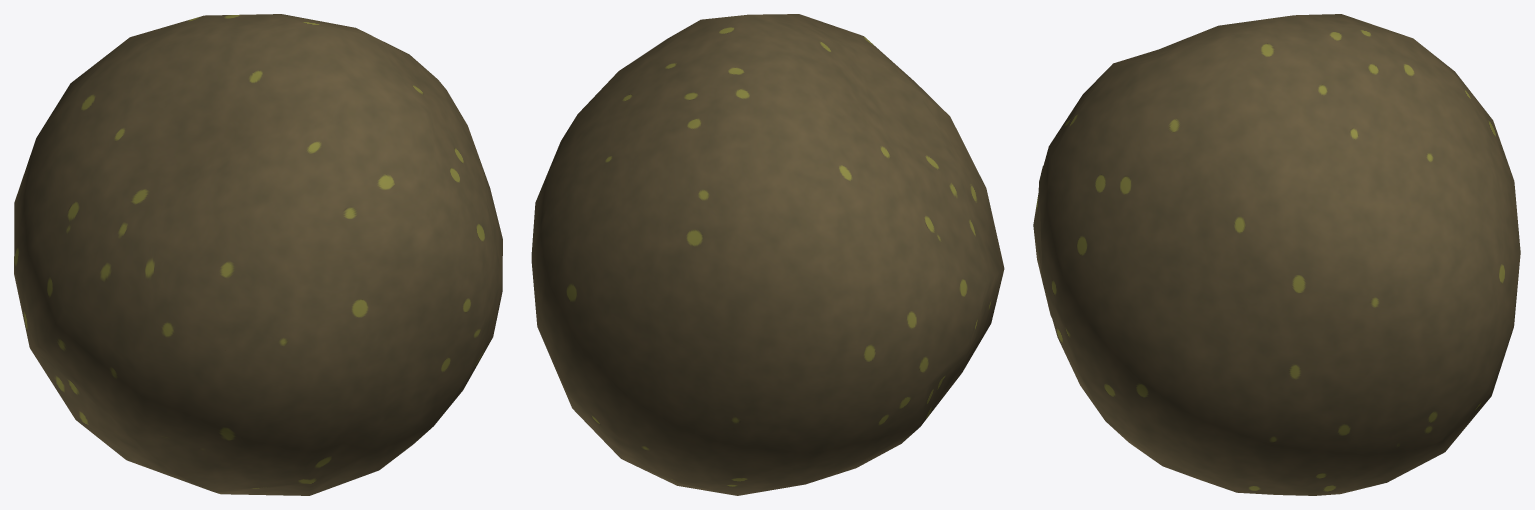
The model's file is kulka zanety.fbx.
3 views of the same model, side by side, from view 1: azimuth 30°, elevation 25°; view 2: azimuth 150°, elevation 25°; view 3: azimuth 270°, elevation 25° (orthographic). The views are drawn at different scales.
Visible parts, largest first — view 1: Icosphere; view 2: Icosphere; view 3: Icosphere.
Boxes of the visible parts, left/top/right/bottom form: Icosphere: left=14, top=14, right=502, bottom=495; Icosphere: left=531, top=14, right=1004, bottom=495; Icosphere: left=1033, top=14, right=1520, bottom=495.
Bounding box in the file's own units: 194 × 200 × 195.
1 material, 1 textured.
